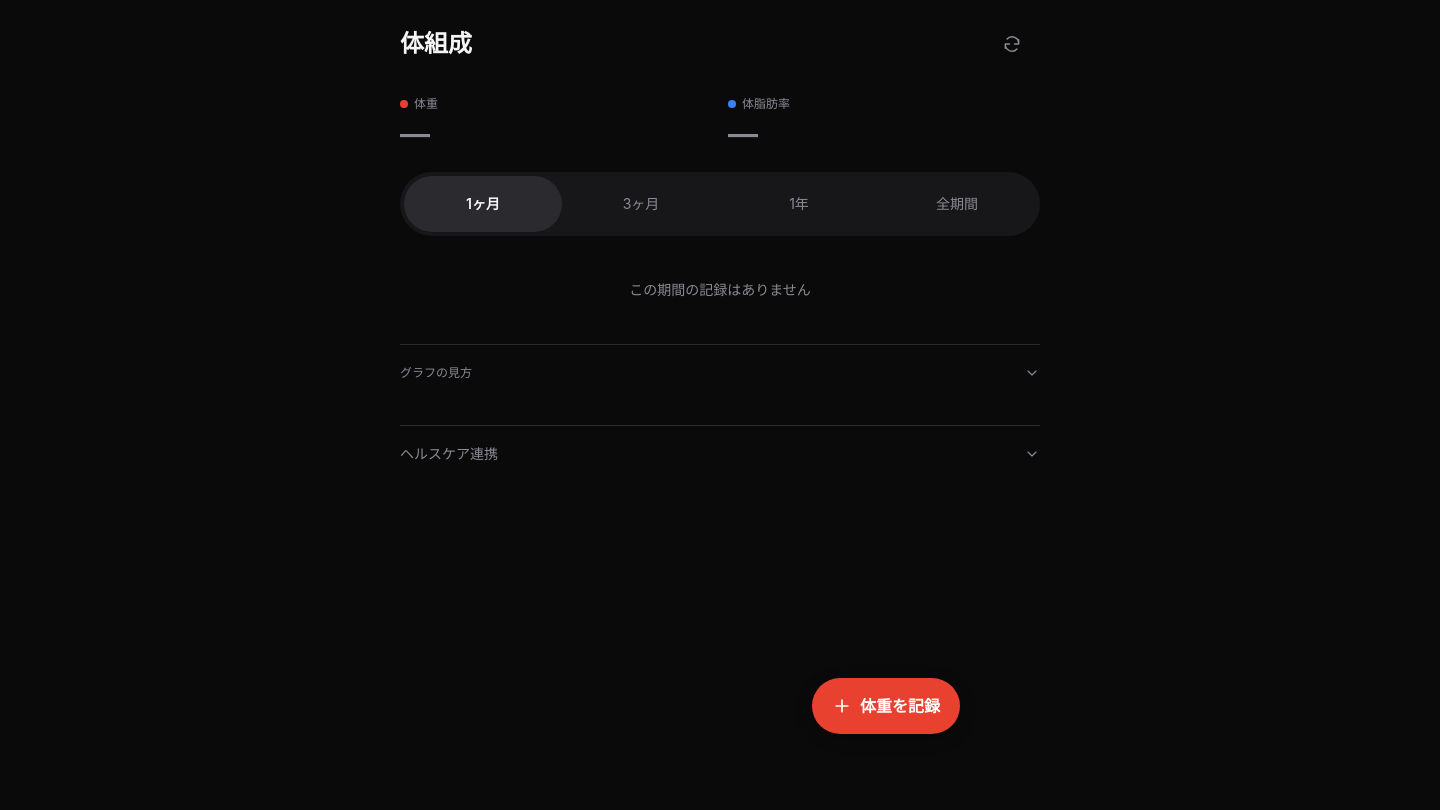
Test case: BodyPage › refuses a weight outside the allowed range
The width and height of the screenshot is (1440, 810).
Click the button "体重を記録" at {"x": 886, "y": 706}, box [812,678,960,734]
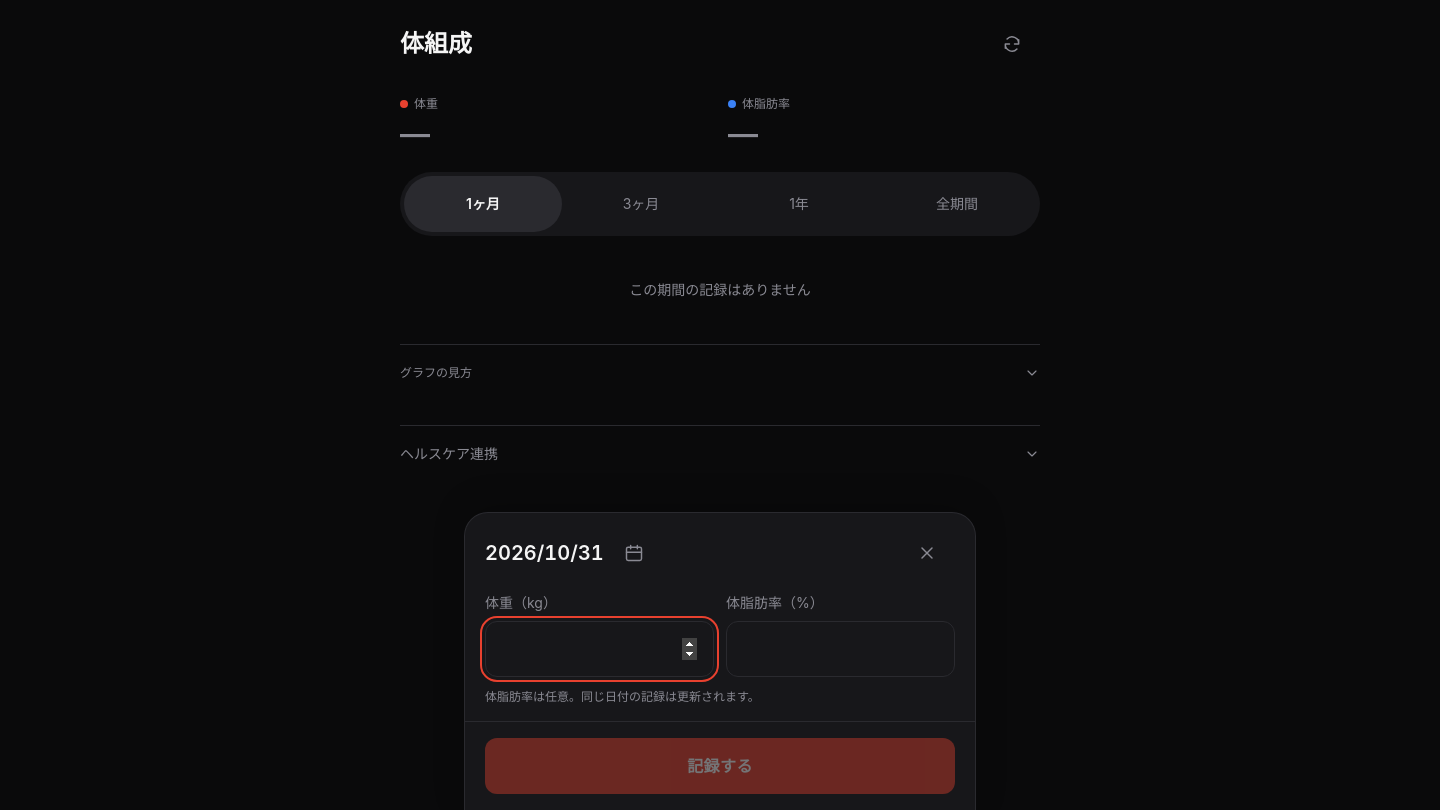
Type "5" into the number field labelled "体重（kg）" at {"x": 600, "y": 649}, box [485,621,714,677]
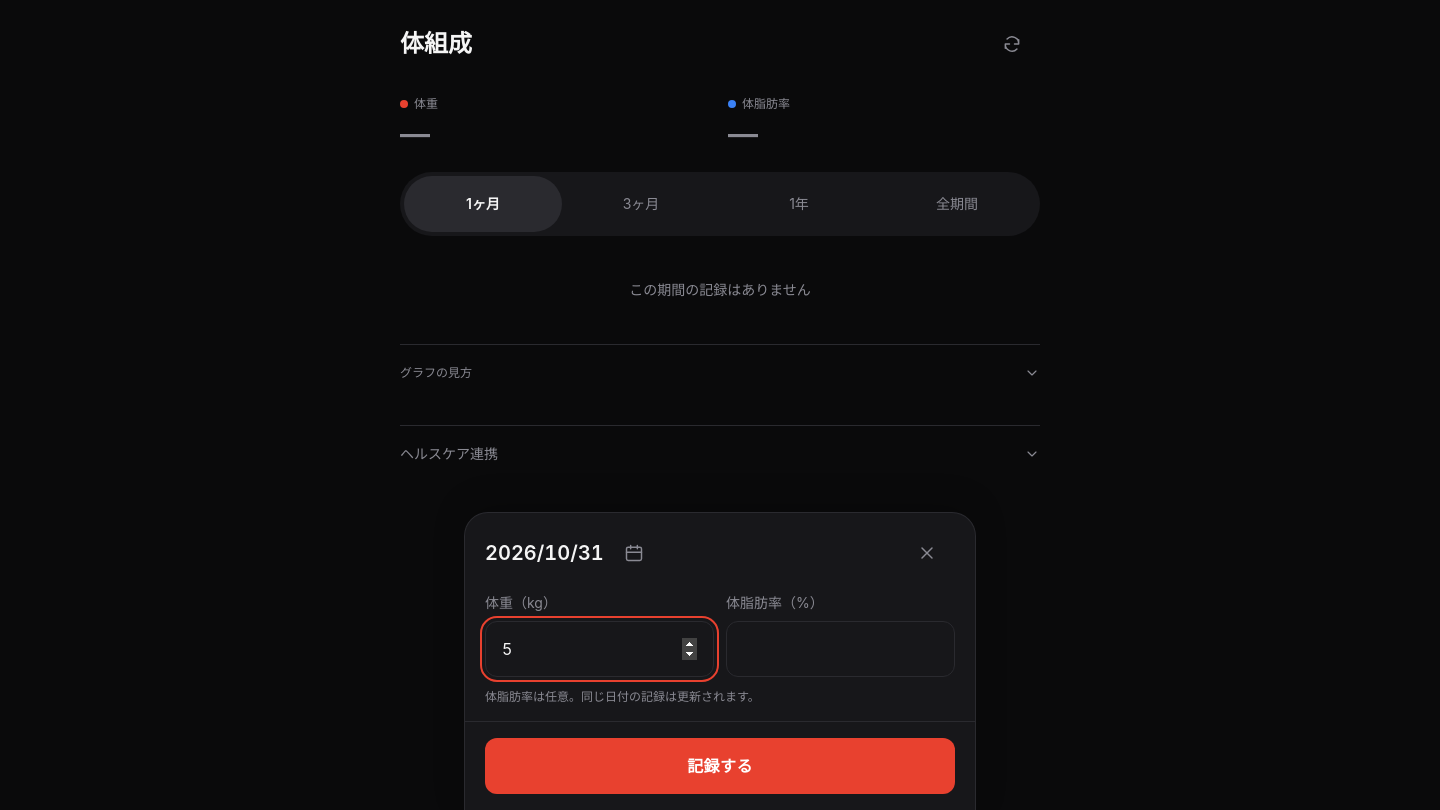
Click the button "記録する" at {"x": 720, "y": 766}, box [485,738,955,794]
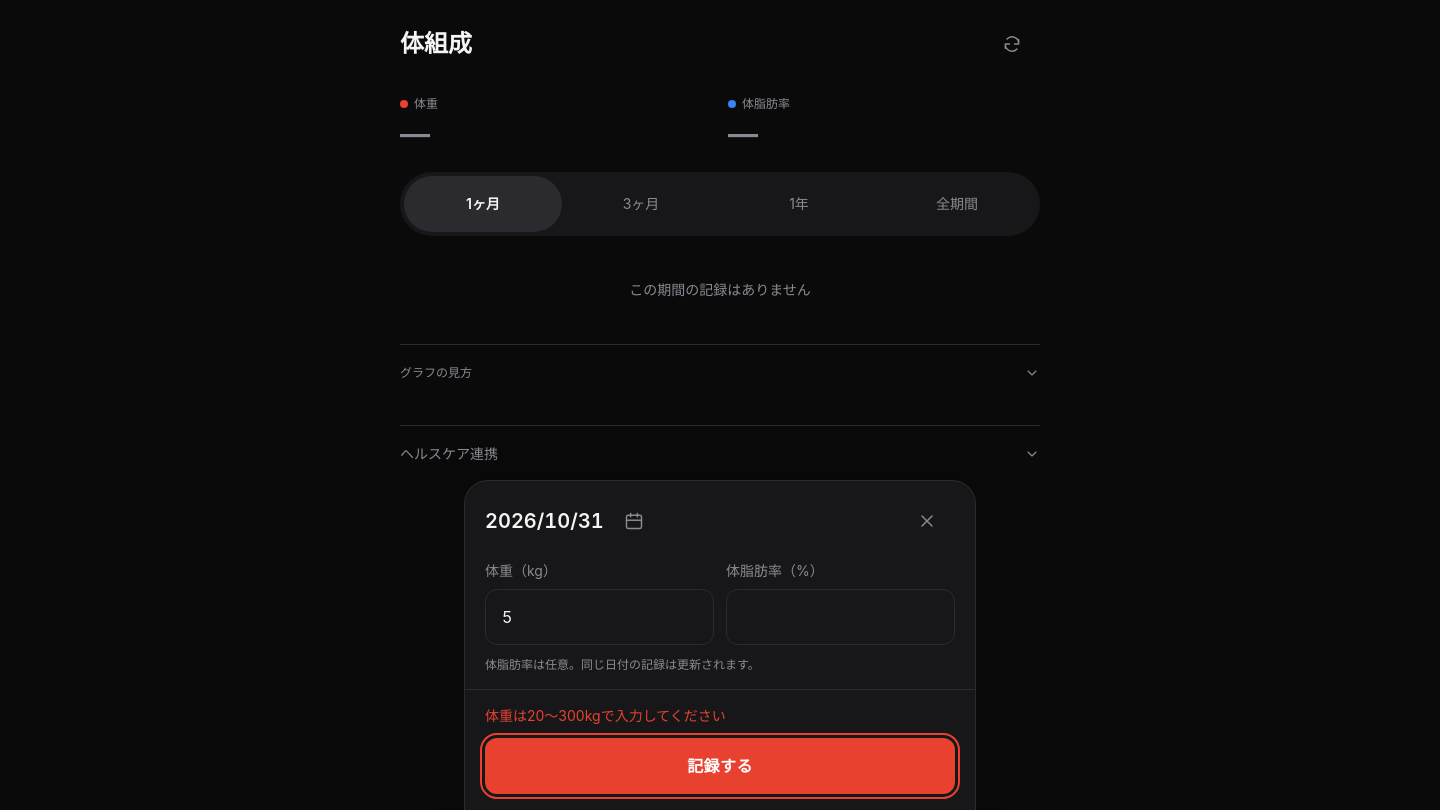
Expected: the message shows "体重", [485,707,726,724]
